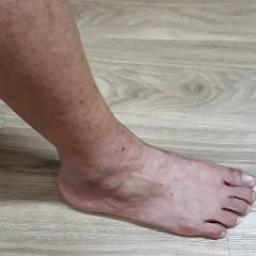Lateral View -Right Foot-: (33, 110, 255, 248)
